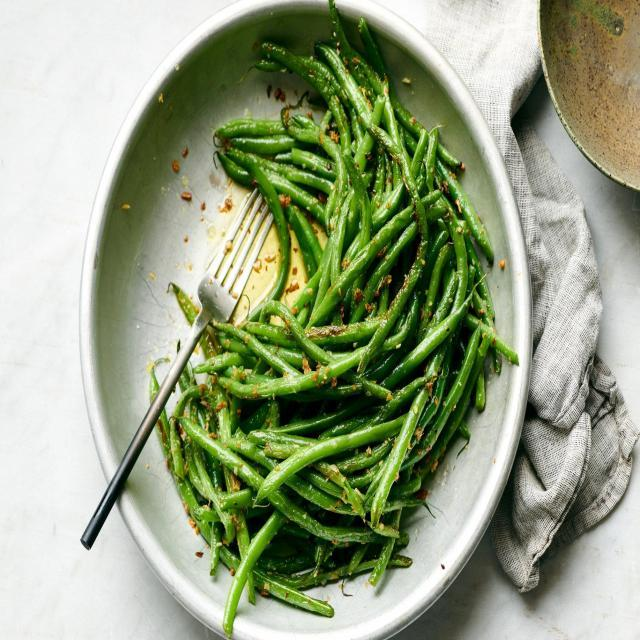Beans: (159, 15, 519, 632)
